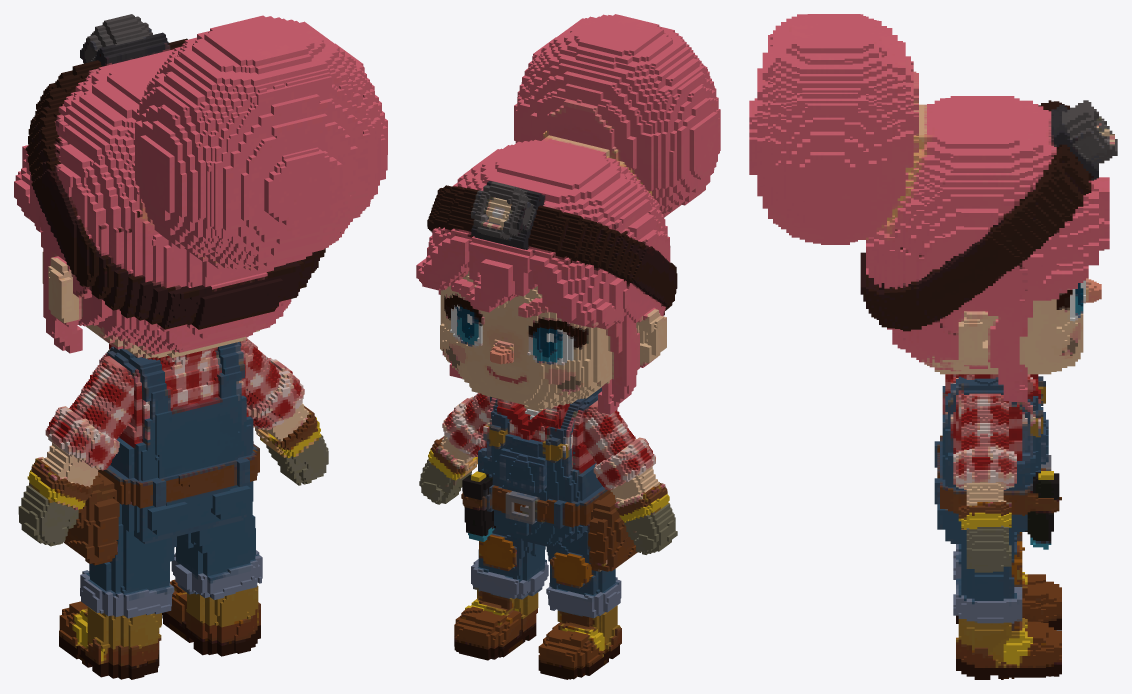
File: char_03_fenmao.glb
3 views of the same model, side by side, from view 1: azimuth 30°, elevation 25°; view 2: azimuth 150°, elevation 25°; view 3: azimuth 270°, elevation 25° (orthographic). The views are drawn at different scales.
Parts seen in each view (by area): view 1: voxel_character; view 2: voxel_character; view 3: voxel_character.
Boxes of the visible parts, left/top/right/bottom form: voxel_character: left=14, top=14, right=387, bottom=679; voxel_character: left=416, top=14, right=720, bottom=679; voxel_character: left=749, top=14, right=1117, bottom=679.
Size of the model in its own units: 0.9969 by 2.2 by 1.19.
